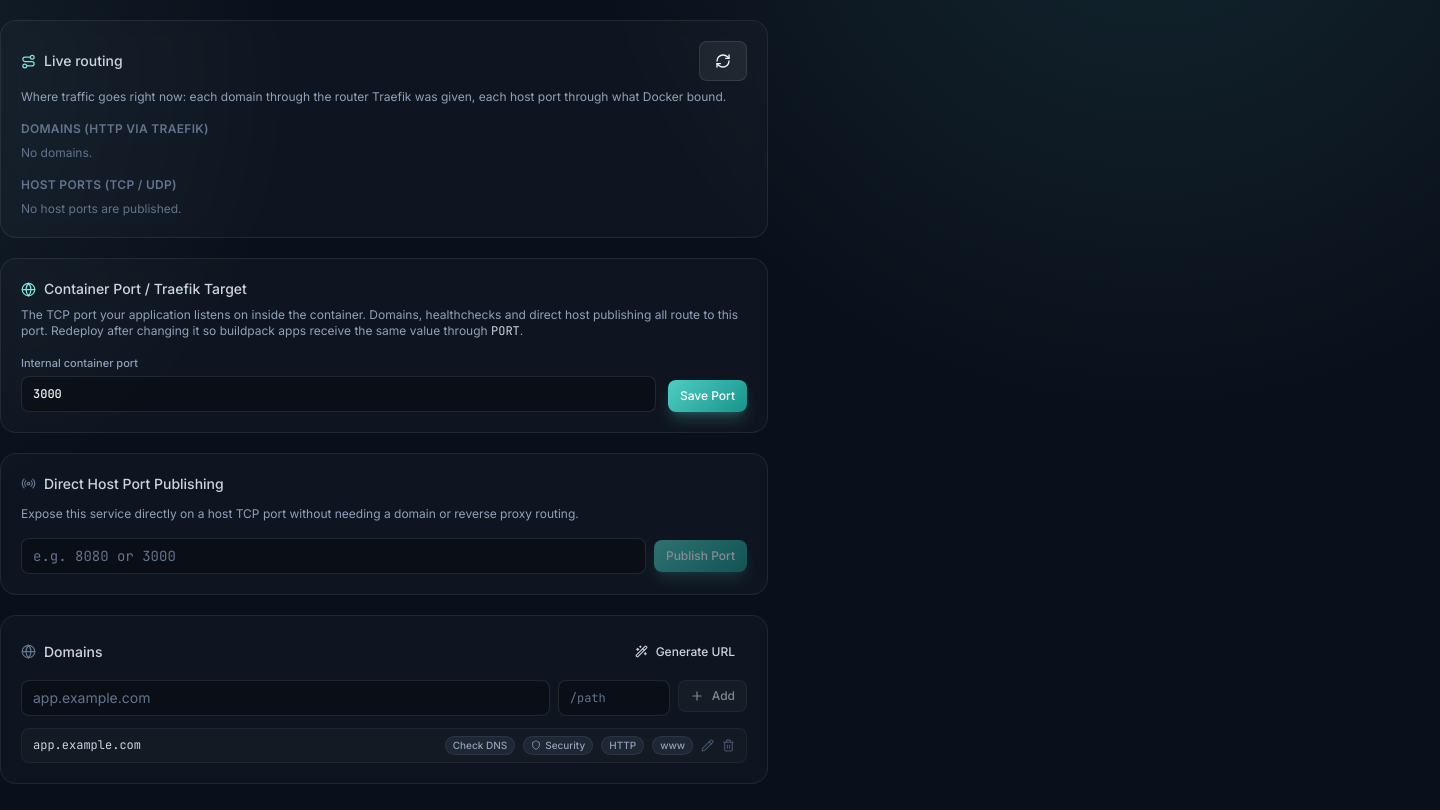
NetworkTab DNS chip › runs the DNS check and shows the resolved status
Click the button "Check DNS". click: (480, 745)
box: left=445, top=736, right=515, bottom=754
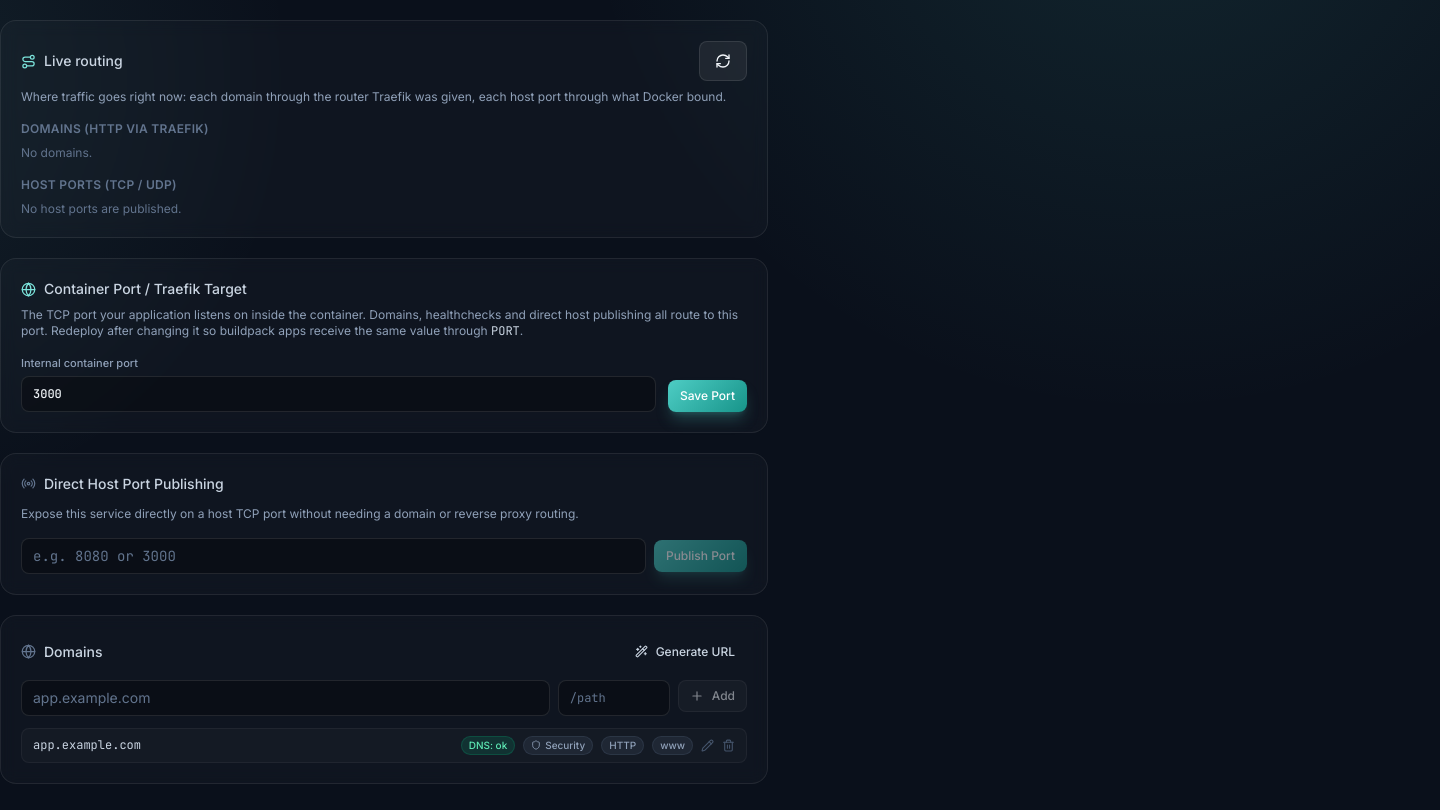
Expected: the button "DNS: ok" is shown, left=461, top=736, right=515, bottom=754
